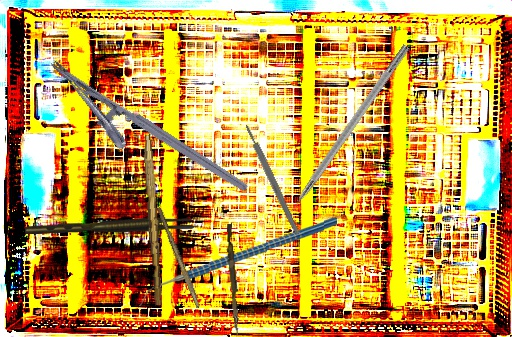Chopper: (137, 218, 339, 306)
Hook Surgical: (276, 43, 412, 228)
Needle Holder: (32, 57, 250, 220)
Pusher: (223, 223, 244, 337)
Scalpel Handle: (243, 123, 301, 236), (154, 206, 204, 309), (139, 134, 166, 306)
Tissue Forceps: (25, 218, 194, 234)
